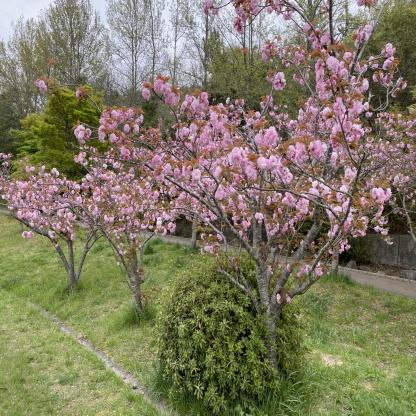YaeSakura: (146, 0, 416, 301), (70, 122, 175, 251), (0, 154, 99, 252)
